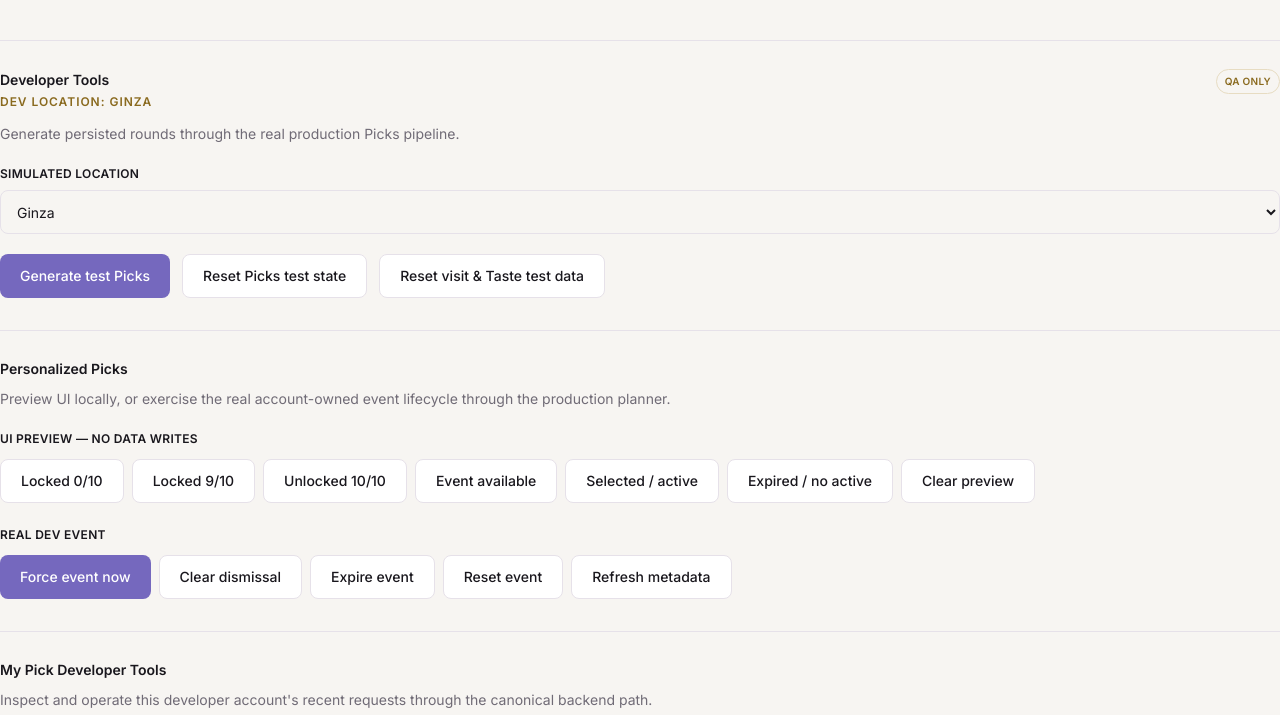
Test: DeveloperTools › requires confirmation before resetting only Picks test state
Click the button "Reset Picks test state" at (275, 276), box [182,254,367,298]
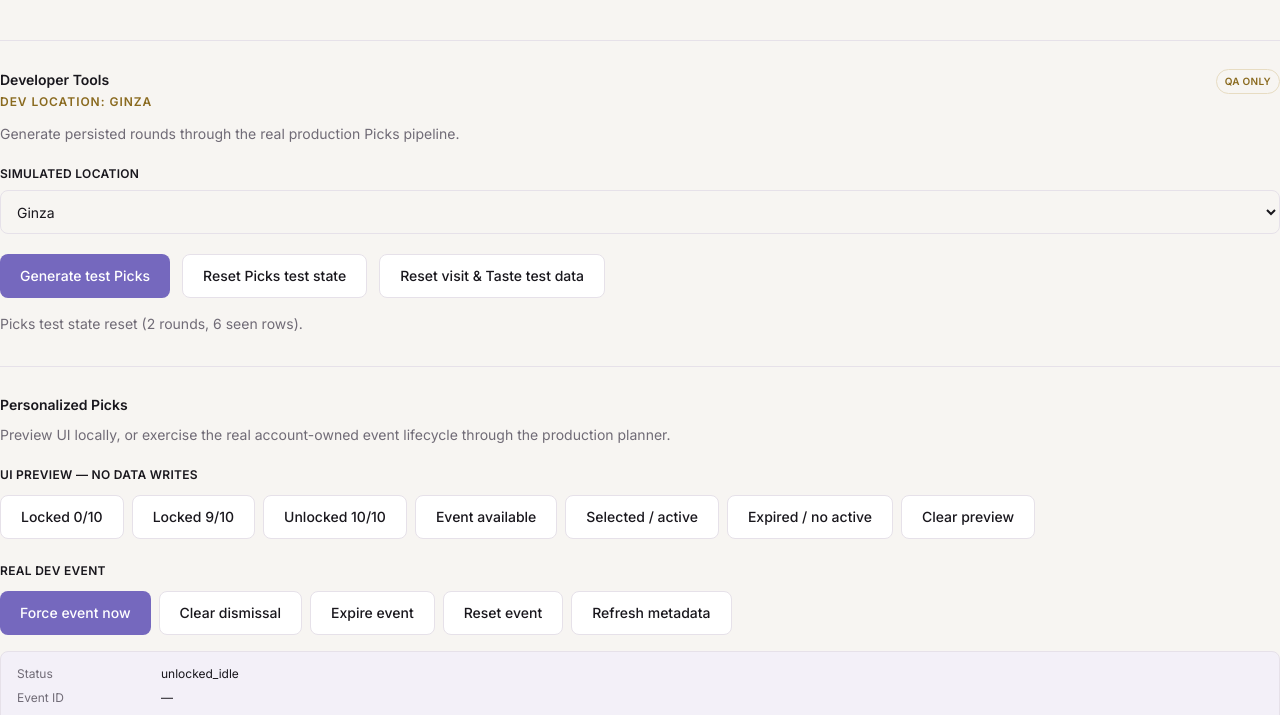
Check: the text "Picks test state reset (2 rounds, 6 seen rows)." is shown, box [0,315,303,332]
